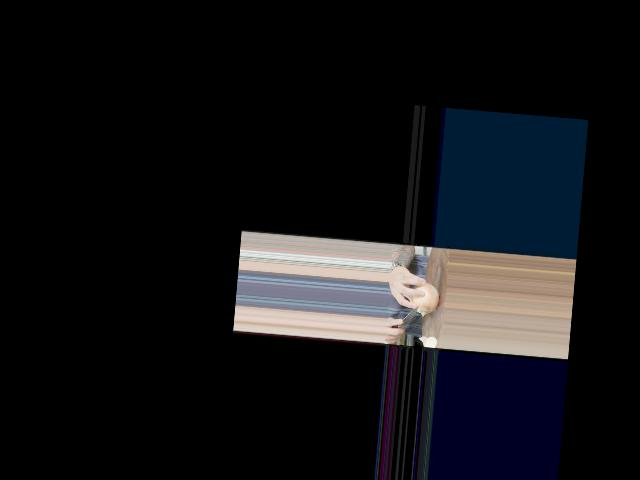onion: (410, 280, 438, 315)
